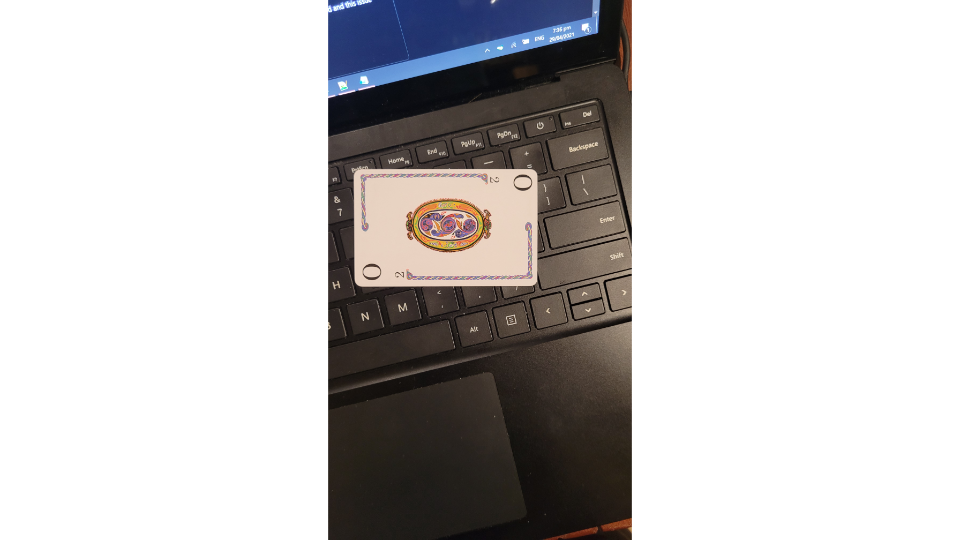O: (348, 162, 544, 290)
